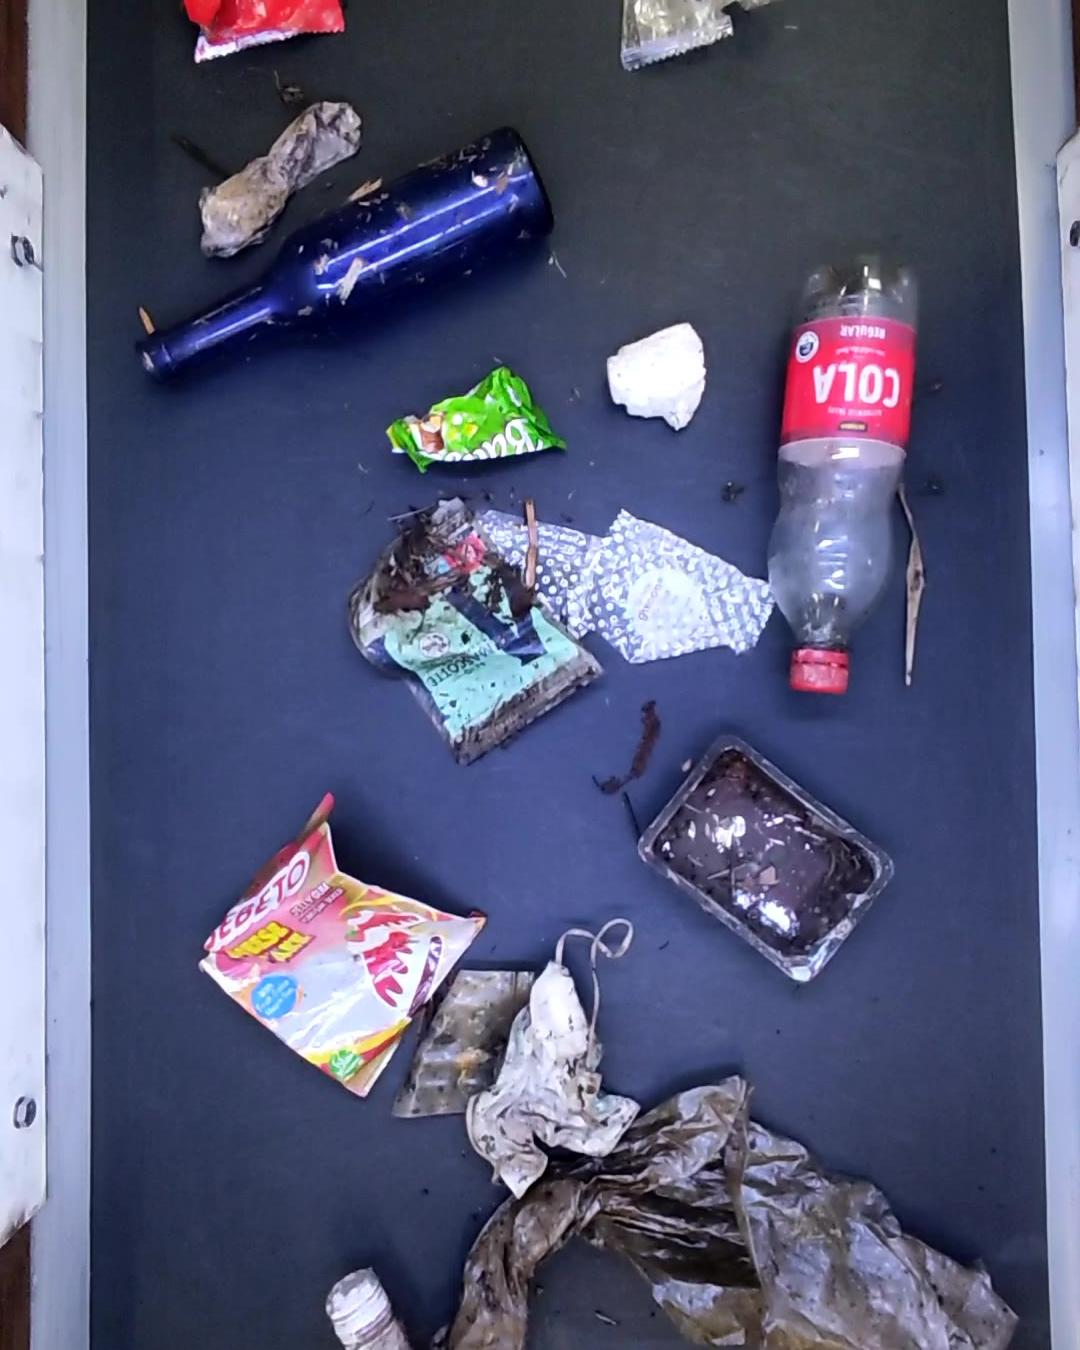Drankflessen - 1-2 liter: (771, 260, 914, 696)
Plastic folies of stukken daarvan 2.5- 50 cm: (432, 1074, 1029, 1349), (195, 100, 363, 261), (389, 966, 553, 1130), (604, 318, 706, 433)
Snoep snack en chips verpakkingen: (199, 796, 486, 1093), (472, 501, 773, 665), (381, 361, 565, 469), (179, 0, 343, 71), (608, 0, 755, 73)
Voedselverpakkingen: (641, 728, 896, 980)
